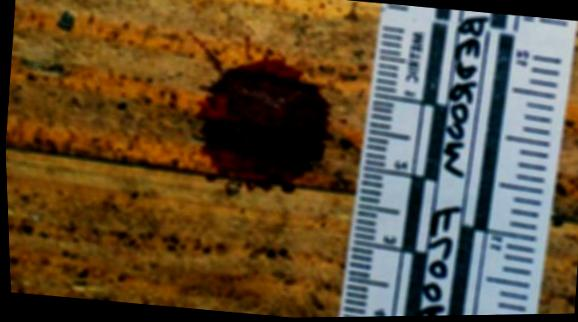Fire: (189, 36, 332, 196)
